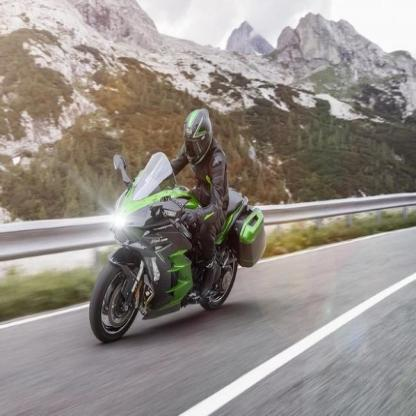Motorcycle: (75, 148, 253, 347)
